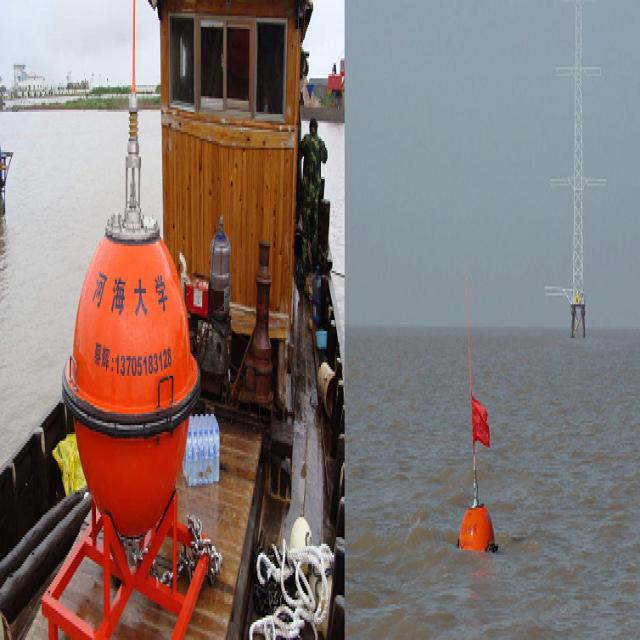buoy: (65, 93, 195, 544), (452, 274, 502, 570)
